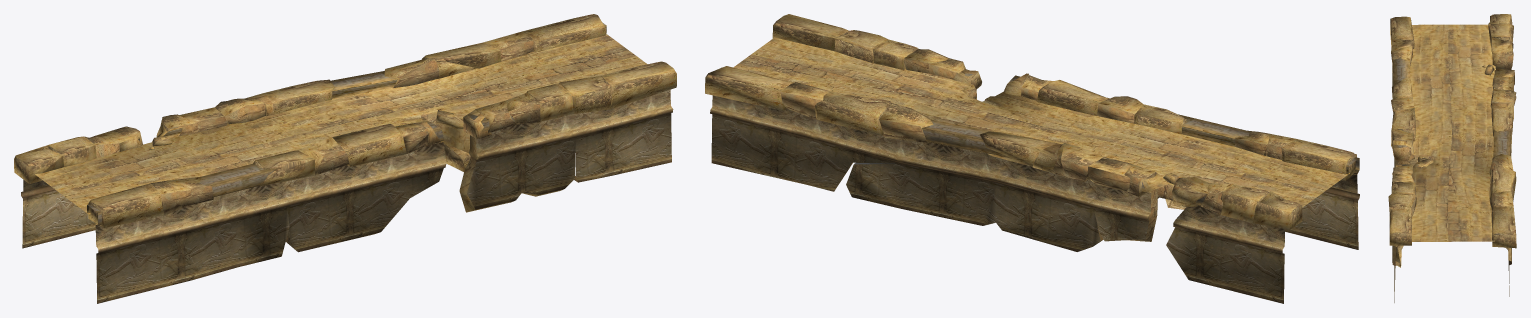
File: S_Build_Desert018.FBX
The picture shows the model from 3 angles, left to right: view 1: azimuth 30°, elevation 25°; view 2: azimuth 150°, elevation 25°; view 3: azimuth 270°, elevation 25°; orthographic projection. The views are drawn at different scales.
Parts seen in each view (by area): view 1: S_Build_Desert018; view 2: S_Build_Desert018; view 3: S_Build_Desert018.
Boxes of the visible parts, left/top/right/bottom form: S_Build_Desert018: left=14, top=14, right=676, bottom=303; S_Build_Desert018: left=705, top=14, right=1359, bottom=303; S_Build_Desert018: left=1388, top=14, right=1516, bottom=302.
Size of the model in its own units: 1651 by 408 by 286.
